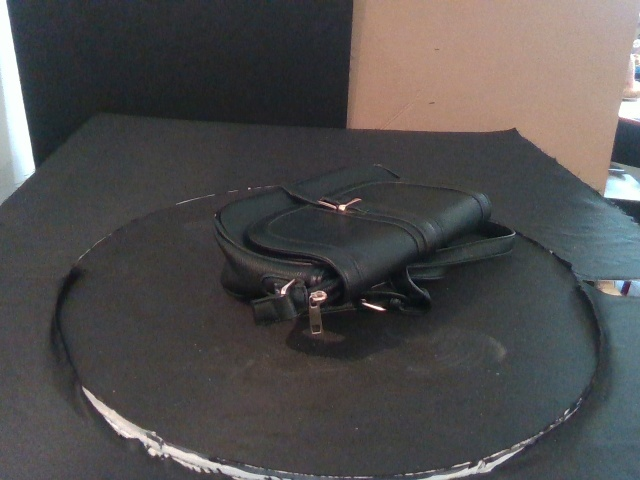bag: (212, 164, 496, 316)
